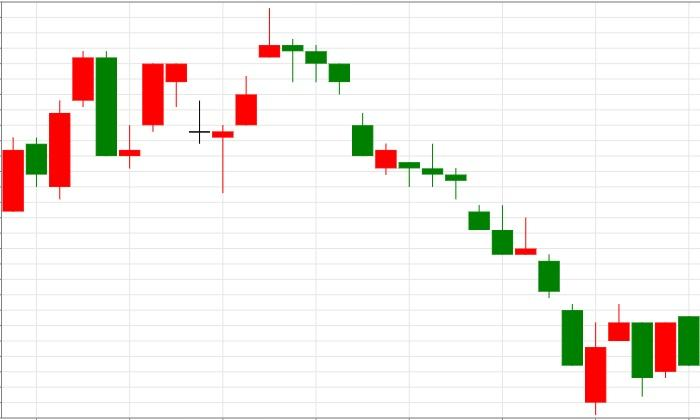bearish_engulfing_fall: (2, 51, 117, 212)
